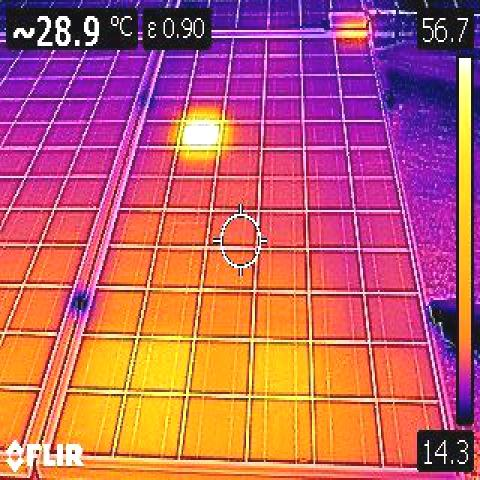fault: (182, 123, 219, 146)
